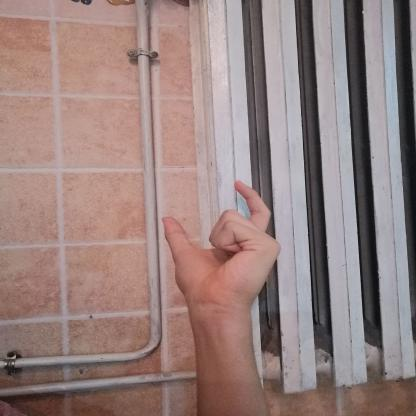NOON: (145, 173, 295, 317)
